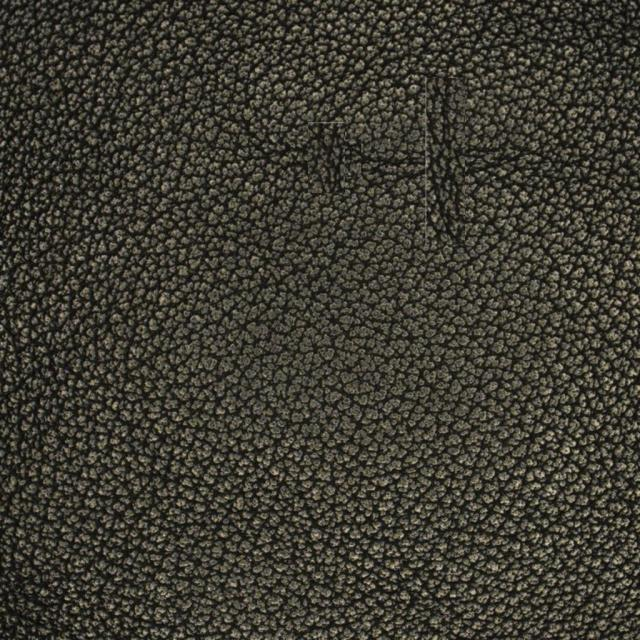Healed Injury: (369, 50, 573, 273), (140, 84, 338, 210)
